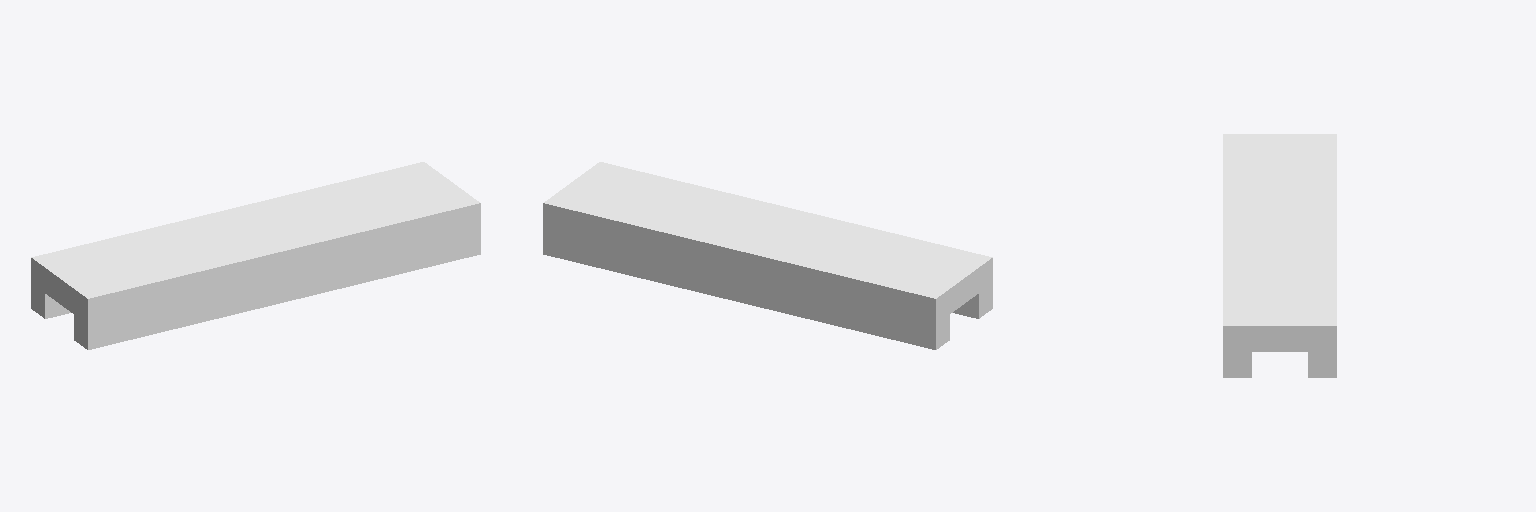
File: Log2.obj
3 views of the same model, side by side, from view 1: azimuth 30°, elevation 25°; view 2: azimuth 150°, elevation 25°; view 3: azimuth 270°, elevation 25° (orthographic).
Parts seen in each view (by area): view 1: object 1; view 2: object 1; view 3: object 1.
Part boxes in pixels (x1,y1,x2,y2): object 1: (31, 162, 480, 349); object 1: (543, 162, 992, 349); object 1: (1223, 134, 1336, 377).
Size of the model in its own units: 1.6 by 0.2 by 0.4.